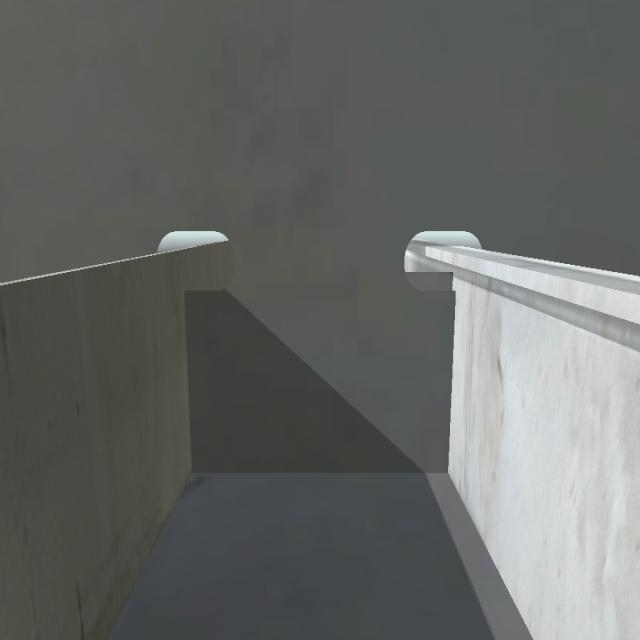fillet_yong_jeop_jang: (189, 462, 462, 488)
longi_yong_jeop_jang: (173, 285, 206, 479), (448, 271, 462, 474)
plate_behind: (407, 266, 452, 292)
